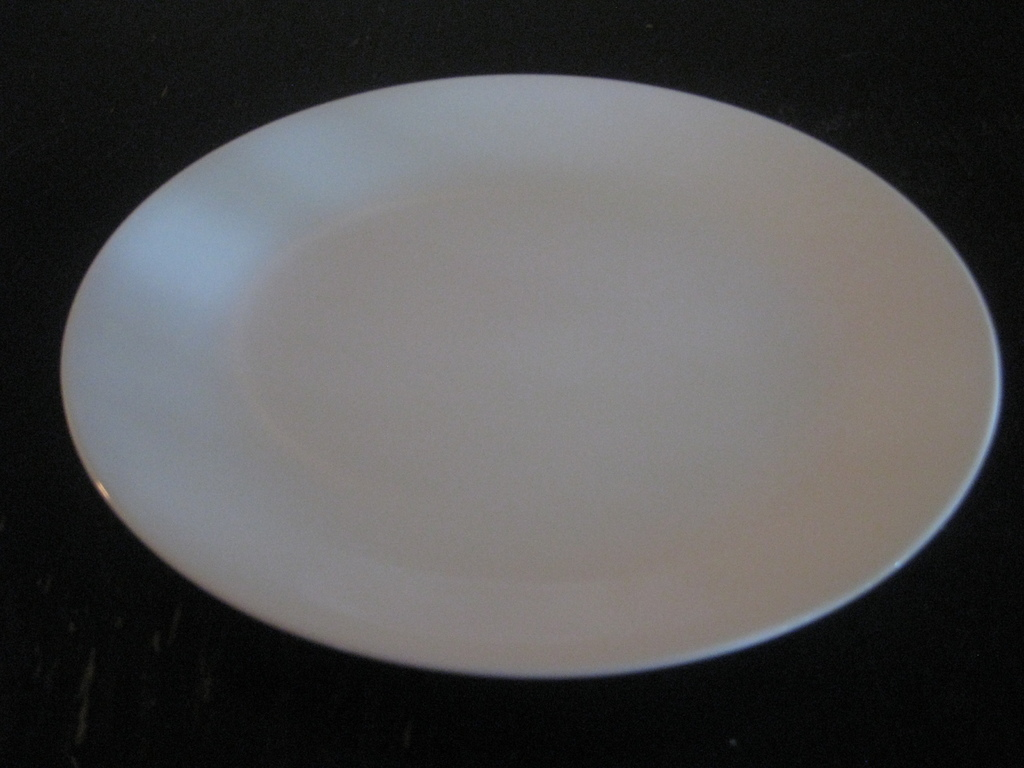plate: (60, 73, 1003, 680)
